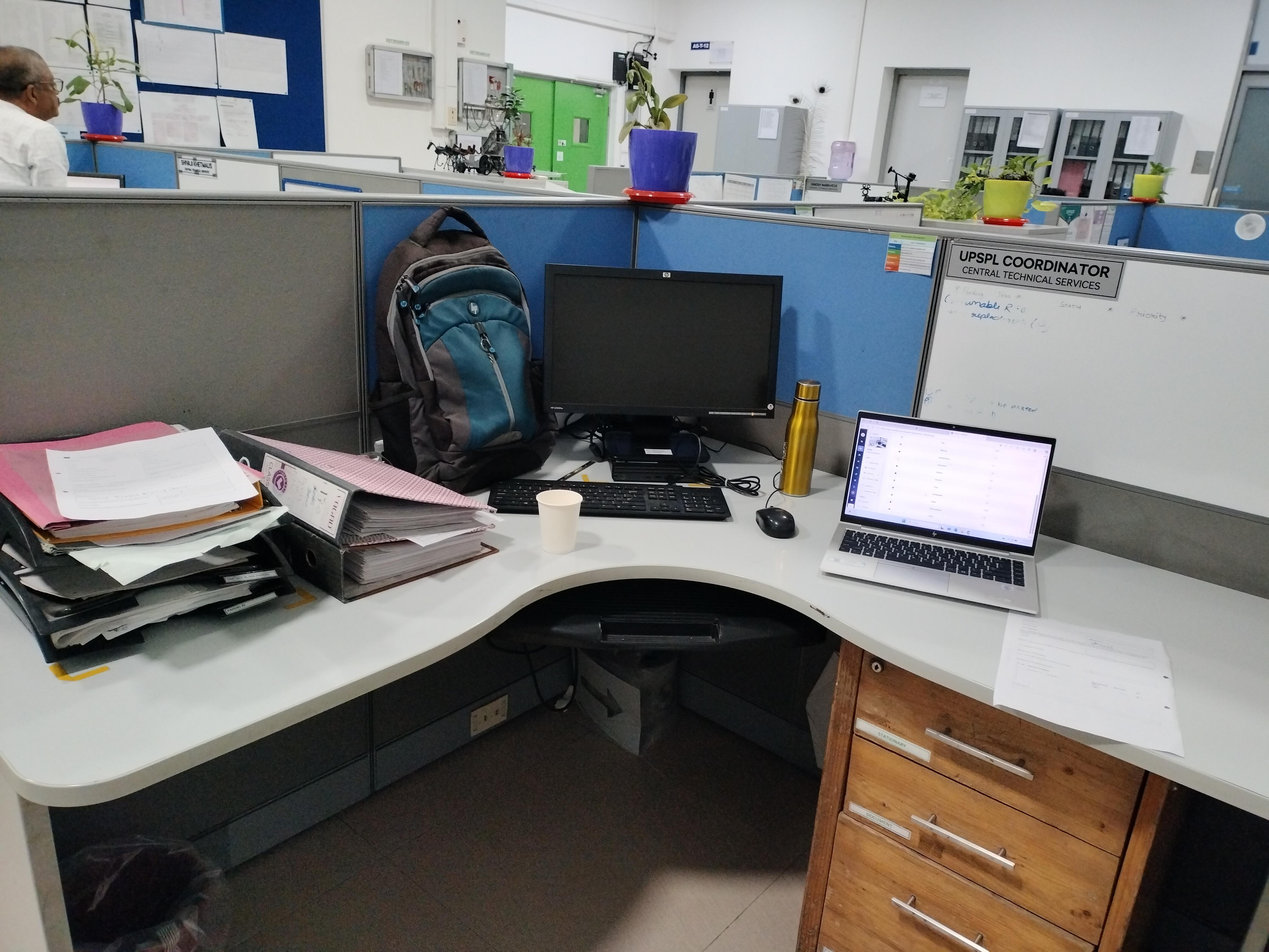StickyNotes: (880, 231, 940, 279)
bag: (372, 204, 555, 491)
bottle: (777, 378, 823, 498)
desktop: (542, 260, 785, 464)
file: (217, 426, 507, 609), (1, 417, 270, 549)
filetray: (0, 417, 300, 666)
keyboard: (485, 475, 735, 524)
laptop: (812, 406, 1060, 621)
mouse: (753, 505, 797, 541)
mug: (535, 487, 585, 558)
nameplate: (945, 239, 1133, 306)
vase: (621, 122, 699, 209)
